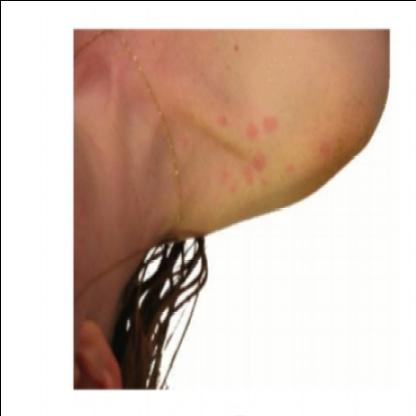Bed Bug: (241, 154, 271, 190), (243, 114, 281, 142), (217, 170, 239, 200), (315, 138, 335, 158), (280, 161, 299, 182), (214, 113, 232, 134)
